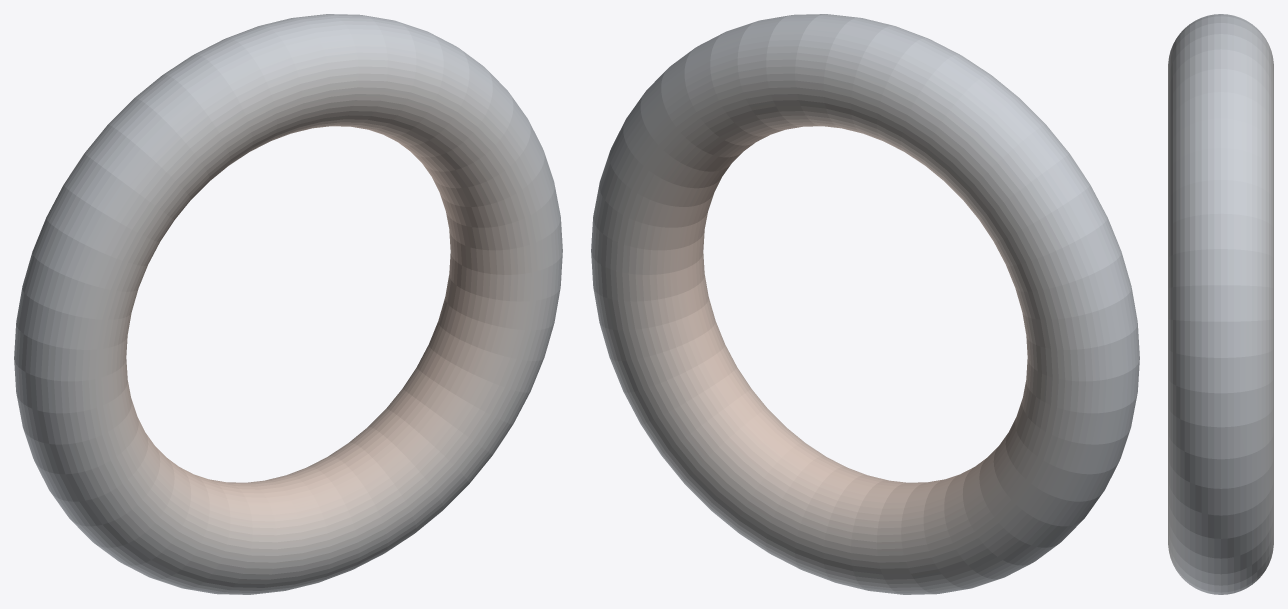
3 views of the same model, side by side, from view 1: azimuth 30°, elevation 25°; view 2: azimuth 150°, elevation 25°; view 3: azimuth 270°, elevation 25° (orthographic). The views are drawn at different scales.
Parts seen in each view (by area): view 1: world; view 2: world; view 3: world.
Part boxes in pixels (<box>): world: <box>14,14,562,594</box>; world: <box>591,14,1139,594</box>; world: <box>1168,14,1273,594</box>.
Size of the model in its own units: 28.53 by 28.48 by 5.19.
